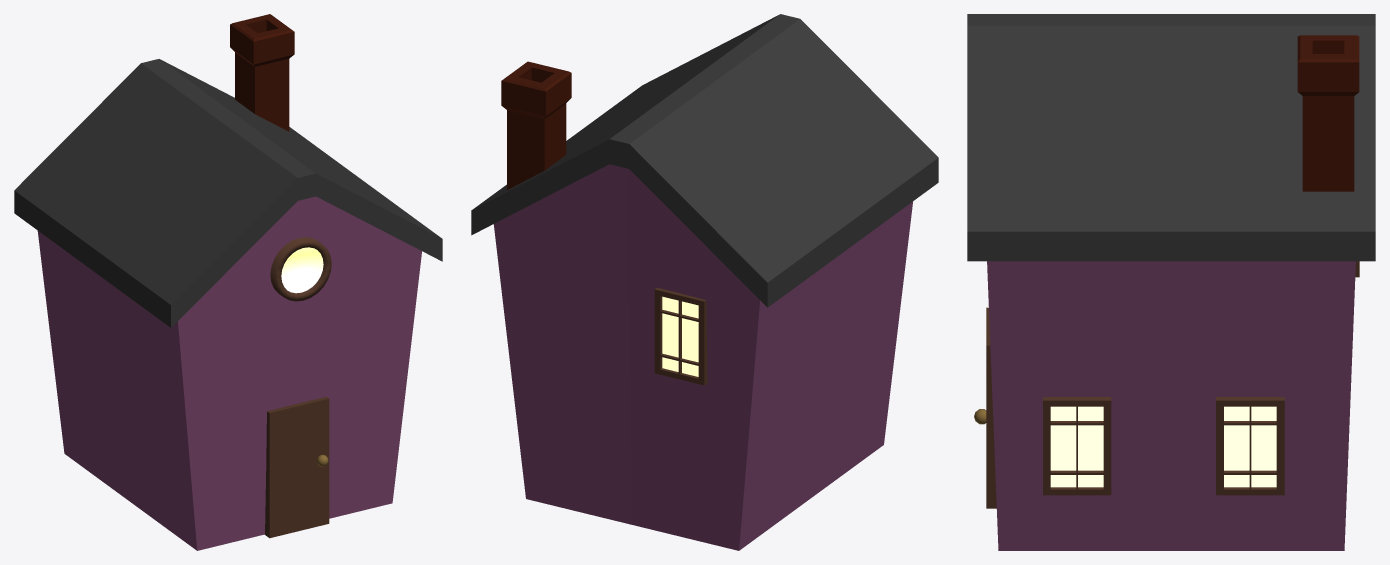
Rendered from House1.glb.
The picture shows the model from 3 angles, left to right: view 1: azimuth 30°, elevation 25°; view 2: azimuth 150°, elevation 25°; view 3: azimuth 270°, elevation 25°; orthographic projection. The views are drawn at different scales.
Parts seen in each view (by area): view 1: House1; view 2: House1; view 3: House1.
Part boxes in pixels (box(x1,y1,x2,y2)): House1: box(14, 14, 442, 550); House1: box(471, 14, 938, 550); House1: box(967, 14, 1375, 550).
Bounding box in the file's own units: 5 × 6.78 × 5.
